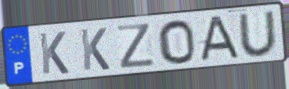A: (196, 14, 243, 63)
K: (78, 26, 112, 73), (37, 30, 71, 76)
O: (156, 18, 198, 65)
U: (236, 9, 280, 58)
Z: (115, 22, 157, 71)
